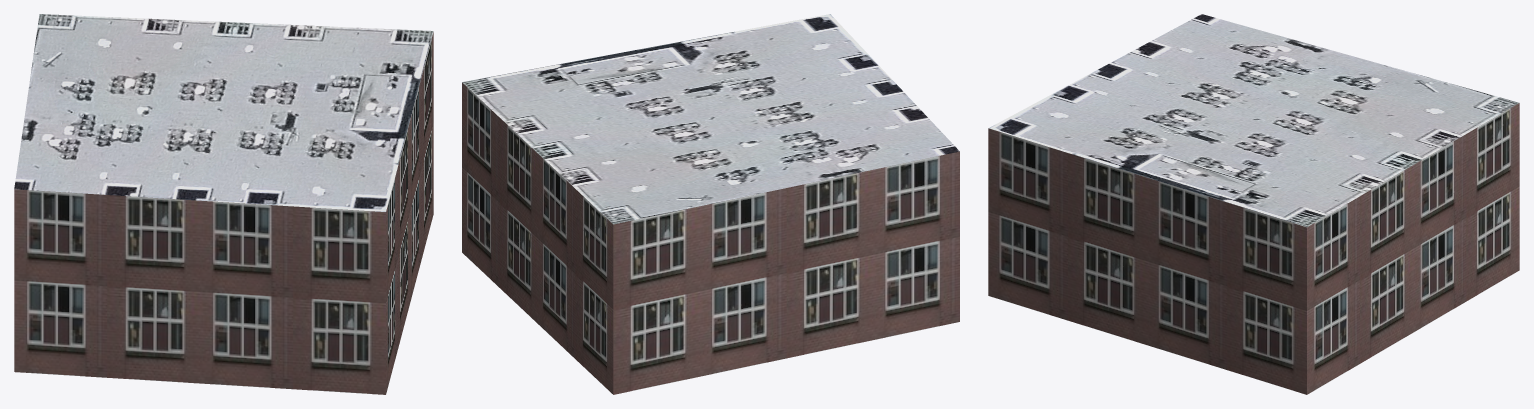
File: ResTex__4697.fbx
The picture shows the model from 3 angles, left to right: view 1: azimuth 30°, elevation 25°; view 2: azimuth 150°, elevation 25°; view 3: azimuth 270°, elevation 25°; orthographic projection. The views are drawn at different scales.
Visible parts, largest first — view 1: CityEngineMaterial_12_m, CityEngineMaterial_4_m; view 2: CityEngineMaterial_12_m, CityEngineMaterial_4_m; view 3: CityEngineMaterial_12_m, CityEngineMaterial_4_m.
Boxes of the visible parts, x1,y1,x2,y2 form: CityEngineMaterial_12_m: (14, 32, 433, 394); CityEngineMaterial_4_m: (14, 14, 433, 211); CityEngineMaterial_12_m: (462, 82, 959, 394); CityEngineMaterial_4_m: (462, 14, 959, 224); CityEngineMaterial_12_m: (988, 103, 1519, 394); CityEngineMaterial_4_m: (989, 14, 1519, 227).
Size of the model in its own units: 16.38 by 6 by 17.23.
2 materials, 2 textured.
